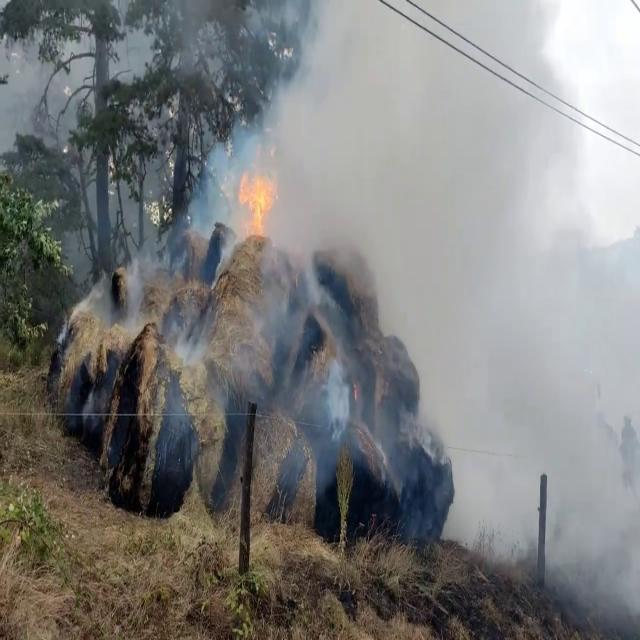Fire: (228, 158, 279, 246)
Smoke: (159, 0, 640, 579)
